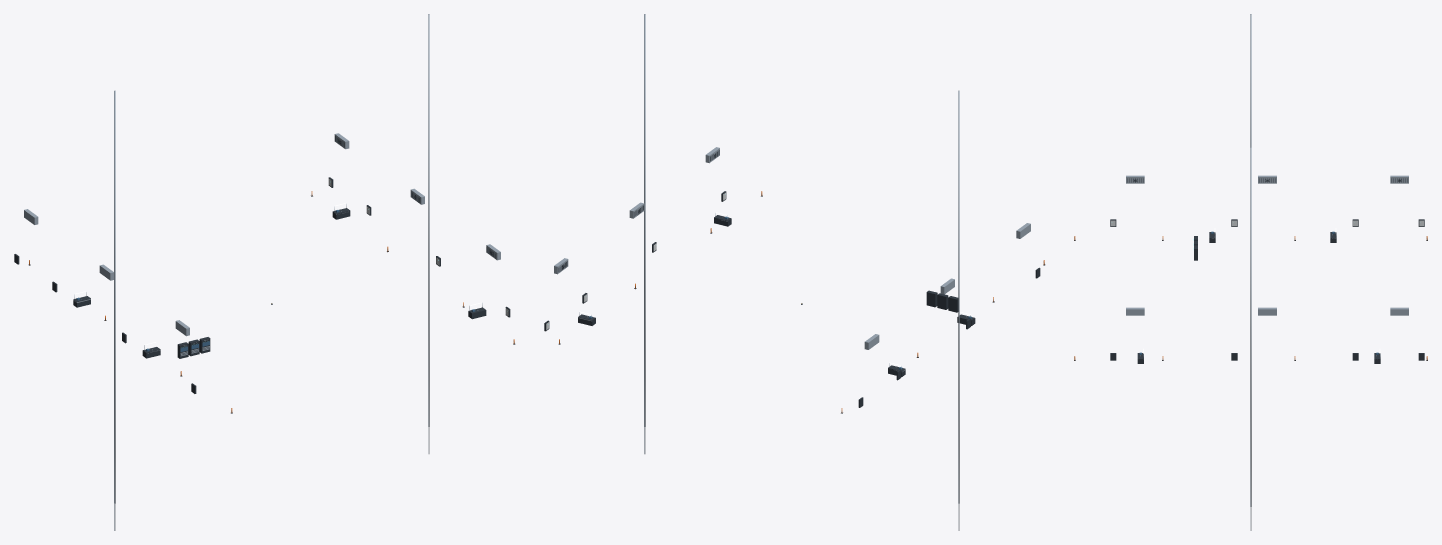
Rendered from flight_details.glb.
3 views of the same model, side by side, from view 1: azimuth 30°, elevation 25°; view 2: azimuth 150°, elevation 25°; view 3: azimuth 270°, elevation 25° (orthographic). The views are drawn at different scales.
Visible parts, largest first — view 1: hangar_details_Brushed alloy, hangar_details_Graphite; view 2: hangar_details_Brushed alloy, hangar_details_Graphite; view 3: hangar_details_Brushed alloy, hangar_details_Graphite.
Boxes of the visible parts, left/top/right/bottom form: hangar_details_Brushed alloy: left=24, top=14, right=500, bottom=530; hangar_details_Graphite: left=14, top=136, right=515, bottom=413; hangar_details_Brushed alloy: left=554, top=14, right=1030, bottom=530; hangar_details_Graphite: left=544, top=150, right=1045, bottom=413; hangar_details_Brushed alloy: left=1126, top=14, right=1408, bottom=530; hangar_details_Graphite: left=1074, top=178, right=1427, bottom=360.
Size of the model in its own units: 57.65 by 76.8 by 64.3.
